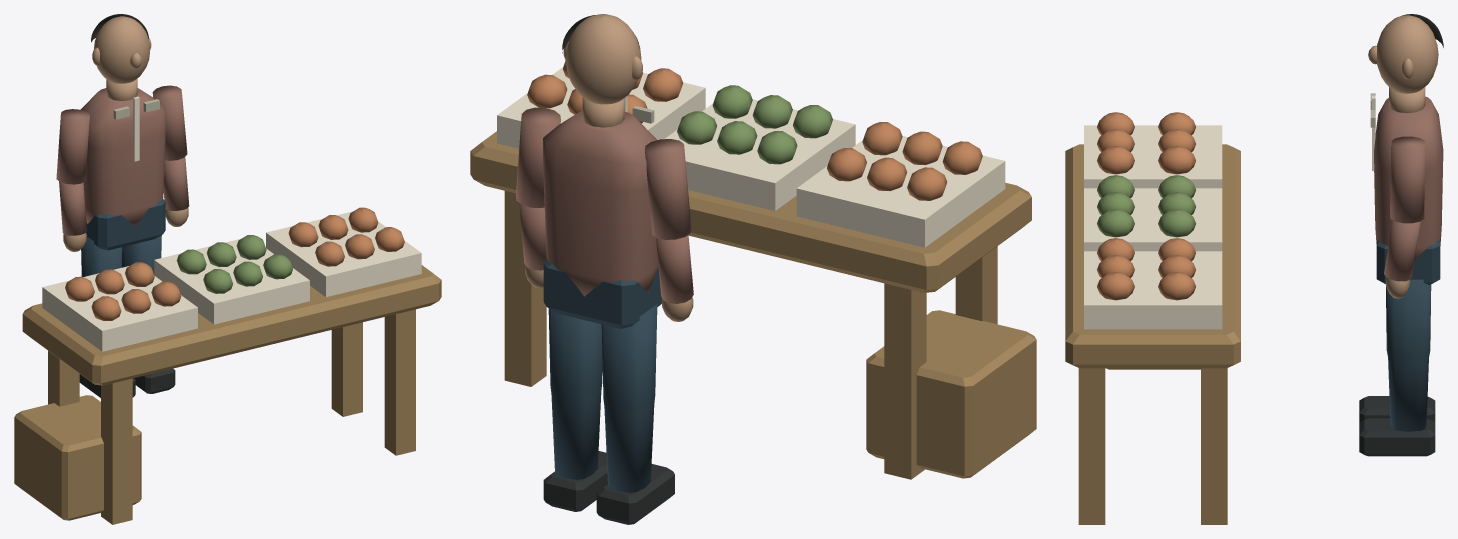
File: vendor.glb
The picture shows the model from 3 angles, left to right: view 1: azimuth 30°, elevation 25°; view 2: azimuth 150°, elevation 25°; view 3: azimuth 270°, elevation 25°; orthographic projection. The views are drawn at different scales.
Parts seen in each view (by area): view 1: vendor-table, body.003, arm-left.003, arm-right.003, leg-right.003, leg-left.003; view 2: vendor-table, body.003, leg-left.003, leg-right.003, arm-left.003, arm-right.003; view 3: vendor-table, body.003, leg-right.003, arm-right.003, leg-left.003.
Boxes of the visible parts, x1,y1,x2,y2 form: vendor-table: (14,207,441,524); body.003: (80,14,165,250); arm-left.003: (56,109,89,251); arm-right.003: (152,85,189,226); leg-right.003: (121,235,175,393); leg-left.003: (79,236,135,397); vendor-table: (470,61,1036,479); body.003: (543,14,661,328); leg-left.003: (596,304,674,524); leg-right.003: (543,308,607,511); arm-left.003: (645,139,693,321); arm-right.003: (515,107,560,288); vendor-table: (1065,112,1240,524); body.003: (1368,14,1443,284); leg-right.003: (1359,279,1435,456); arm-right.003: (1384,136,1425,298); leg-left.003: (1359,396,1435,422).
Bounding box in the file's own units: 1.83 × 1.75 × 1.42.
